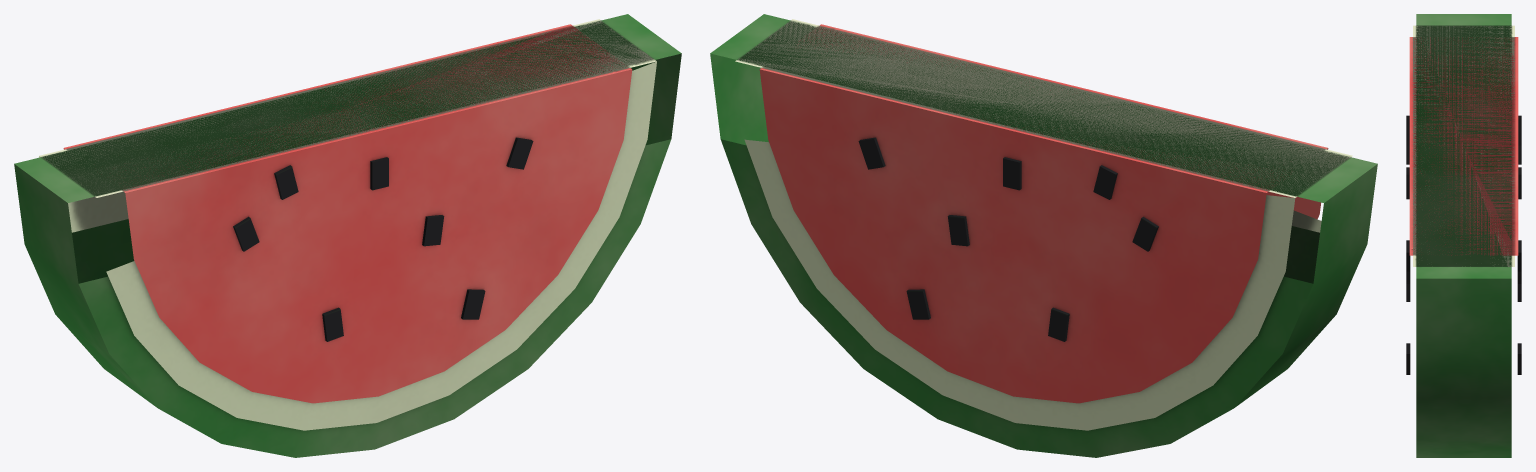
Rendered from watermelon_slice.fbx.
The picture shows the model from 3 angles, left to right: view 1: azimuth 30°, elevation 25°; view 2: azimuth 150°, elevation 25°; view 3: azimuth 270°, elevation 25°; orthographic projection. The views are drawn at different scales.
Parts seen in each view (by area): view 1: Body; view 2: Body; view 3: Body.
Boxes of the visible parts, x1,y1,x2,y2 form: Body: (14,14,681,457); Body: (710,14,1377,457); Body: (1406,14,1521,457).
Bounding box in the file's own units: 0.92 × 0.46 × 0.17.
1 material, 1 textured.
